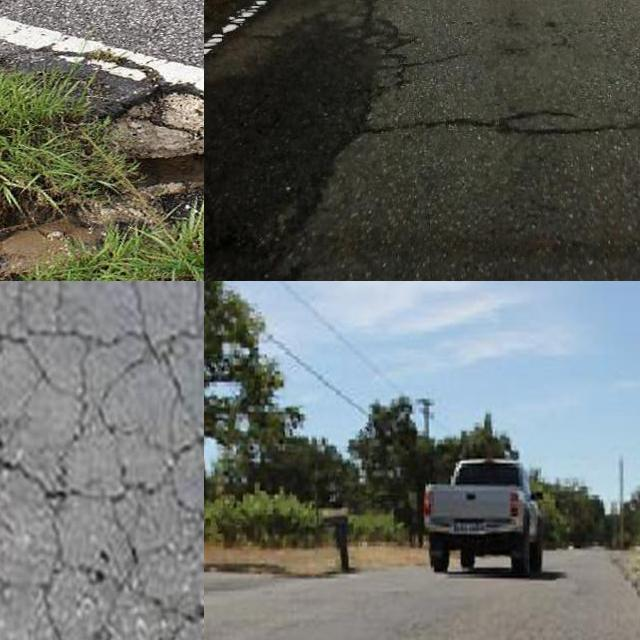Melintang: (371, 107, 640, 149)
Pinggir: (11, 45, 204, 249)
Retak Buaya: (0, 281, 204, 640)
